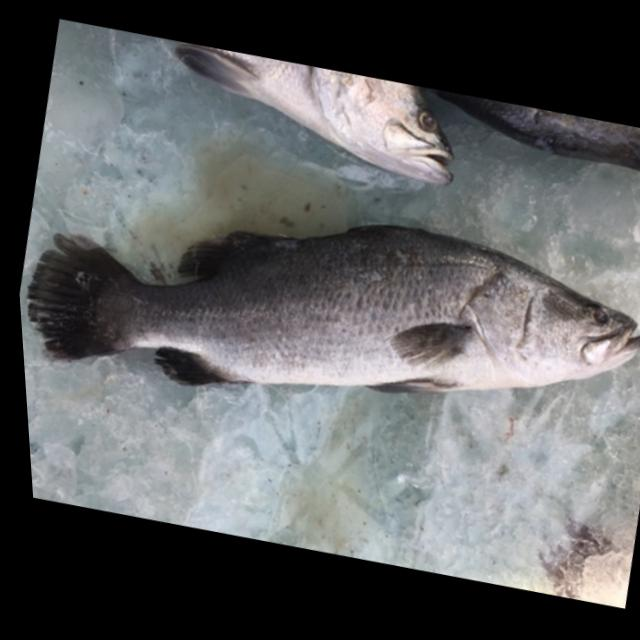Seabass: (11, 149, 640, 483), (139, 30, 472, 195), (406, 80, 640, 191)
